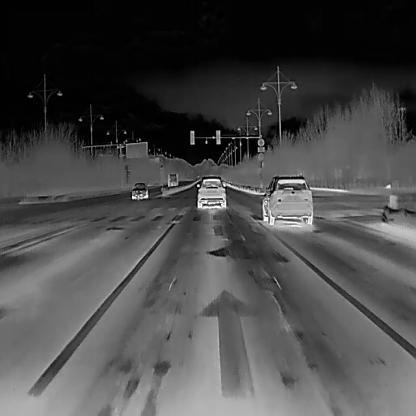car: (261, 173, 312, 226), (196, 174, 226, 210), (130, 181, 147, 200)
truck: (167, 172, 177, 188)
